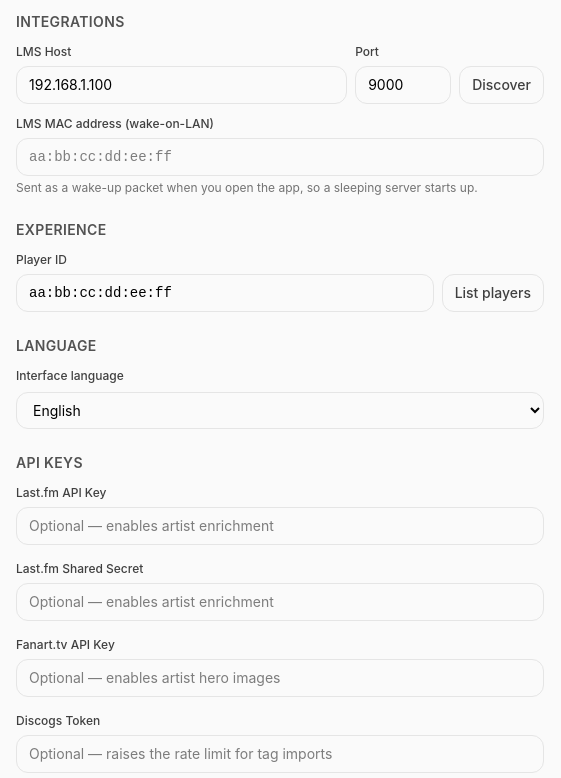
Test case: SettingsView › populates host/port fields when server is selected from dropdown
What coordinates should you click on to do the following:
click the button with test id "discover-button"
I would click on:
 (502, 85)
Its box is x1=459 y1=66 x2=544 y2=104.
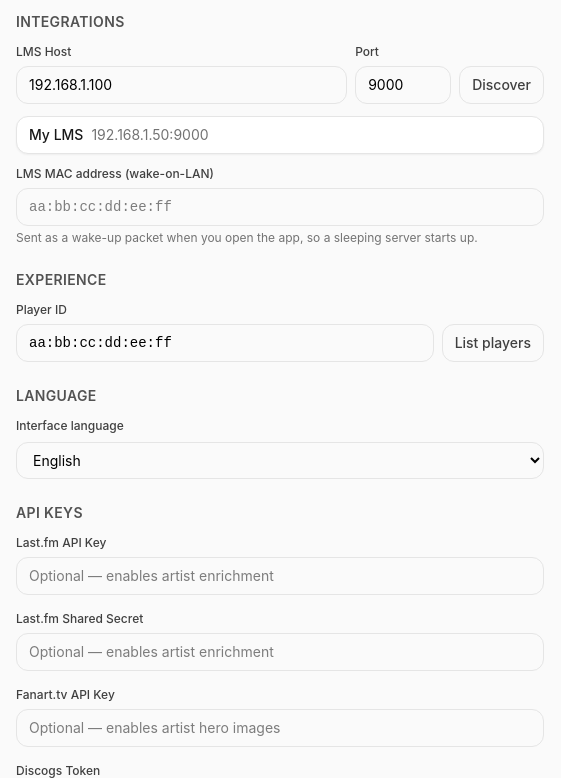
What coordinates should you click on to do the following:
click the button with test id "server-option"
I would click on:
 (56, 134)
Its box is x1=17 y1=117 x2=543 y2=153.
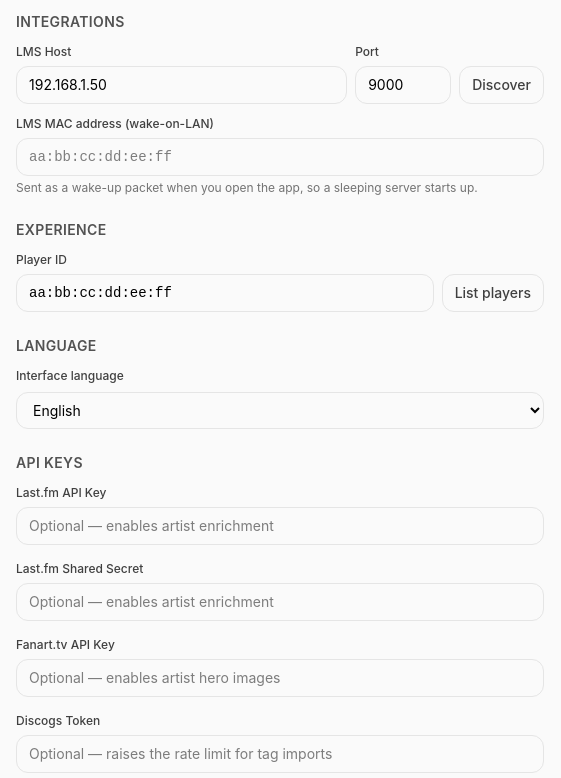
Result: the field with test id "lms-host-input" holds "192.168.1.50" at x1=16 y1=66 x2=347 y2=104
